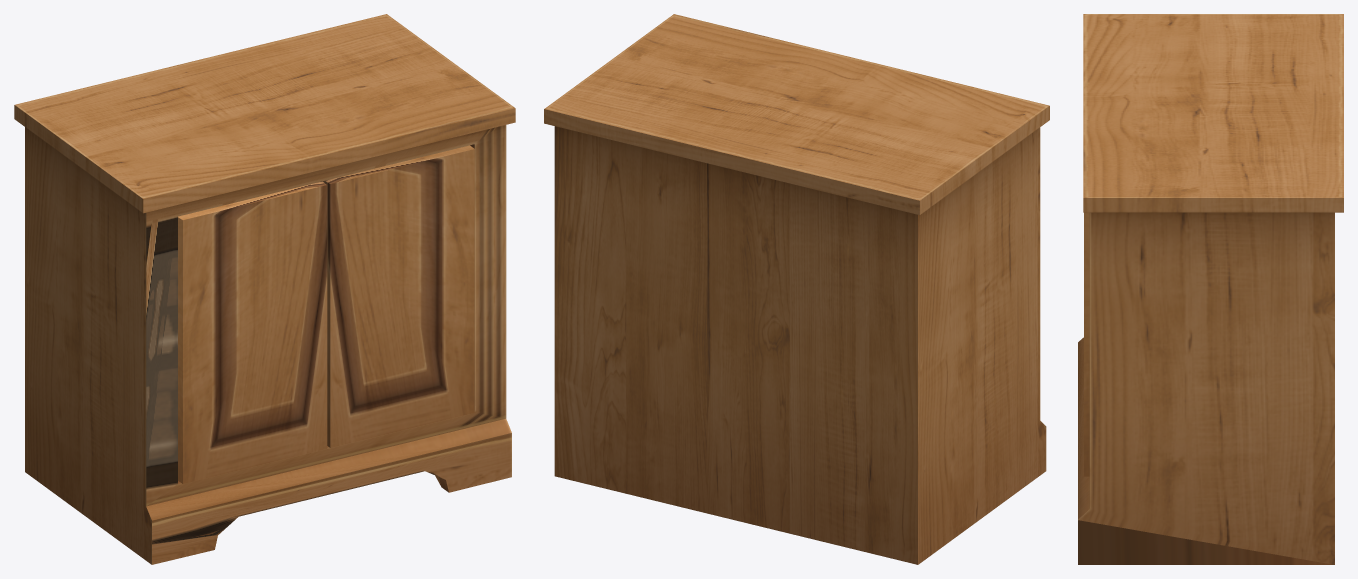
Rendered from cabinet_2door_c.fbx.
3 views of the same model, side by side, from view 1: azimuth 30°, elevation 25°; view 2: azimuth 150°, elevation 25°; view 3: azimuth 270°, elevation 25° (orthographic).
Visible parts, largest first — view 1: cabinet_body, doorcab_door_l, doorcab_door_r; view 2: cabinet_body; view 3: cabinet_body, doorcab_door_r.
Boxes of the visible parts, x1,y1,x2,y2 form: cabinet_body: [14, 14, 515, 564]; doorcab_door_l: [178, 181, 327, 483]; doorcab_door_r: [323, 145, 474, 447]; cabinet_body: [544, 14, 1049, 564]; cabinet_body: [1078, 14, 1343, 564]; doorcab_door_r: [1084, 212, 1089, 476].
Size of the model in its own units: 1.47 by 1.38 by 0.8996.
